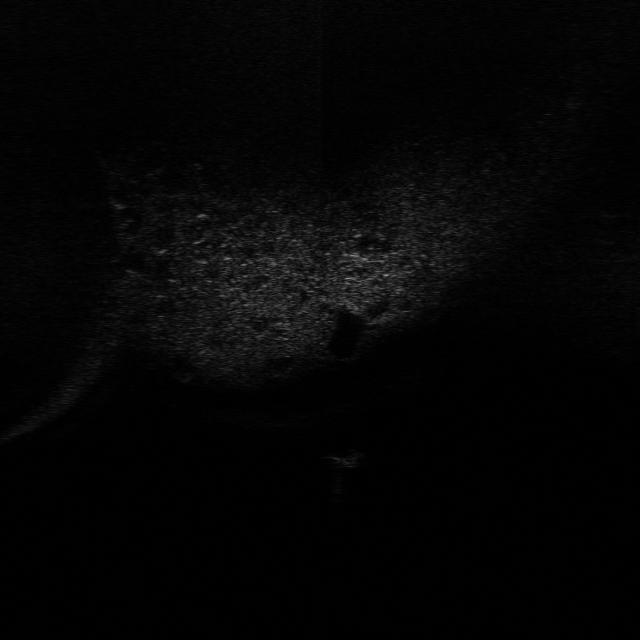cube: (323, 442, 369, 470)
